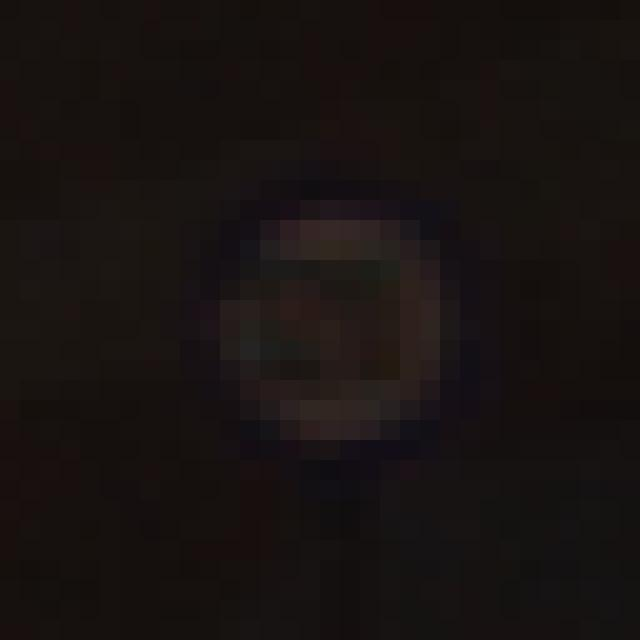SPEED LIMIT 120: (187, 189, 490, 463)
